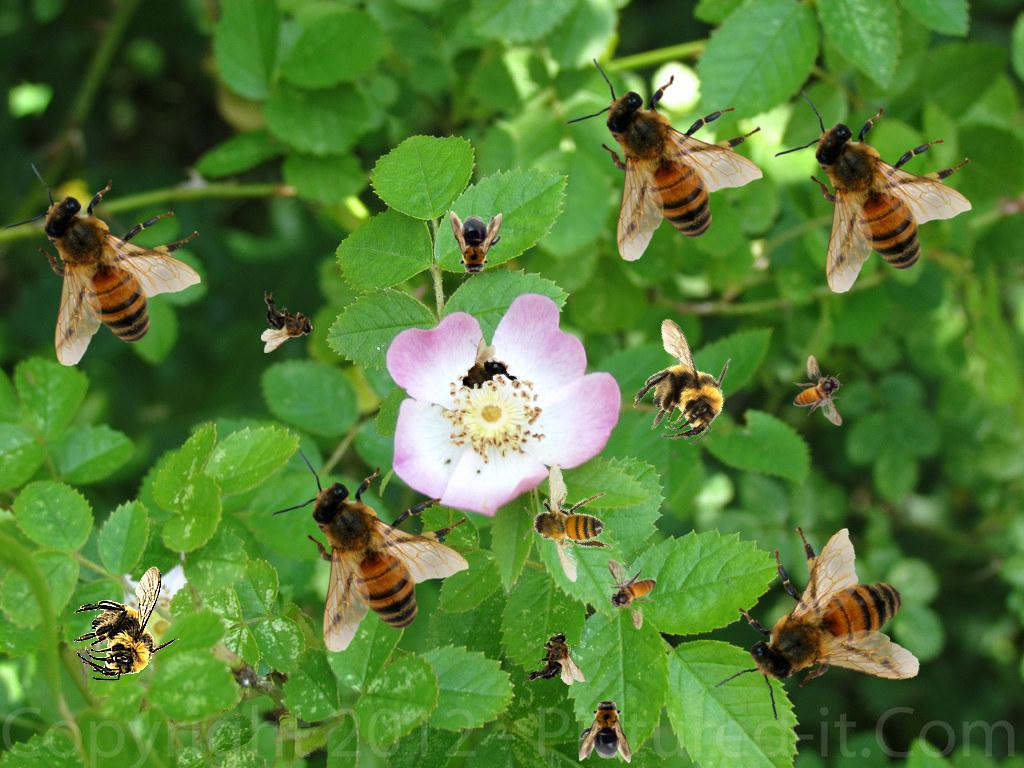Bee: (711, 517, 932, 735), (270, 449, 469, 653), (564, 58, 763, 262), (2, 163, 201, 367), (773, 90, 972, 294), (602, 303, 759, 460), (497, 447, 638, 593), (73, 566, 180, 681), (445, 333, 526, 415), (793, 355, 843, 426), (607, 559, 657, 630), (579, 695, 631, 763), (450, 211, 502, 279), (523, 632, 585, 685), (261, 291, 314, 353)
